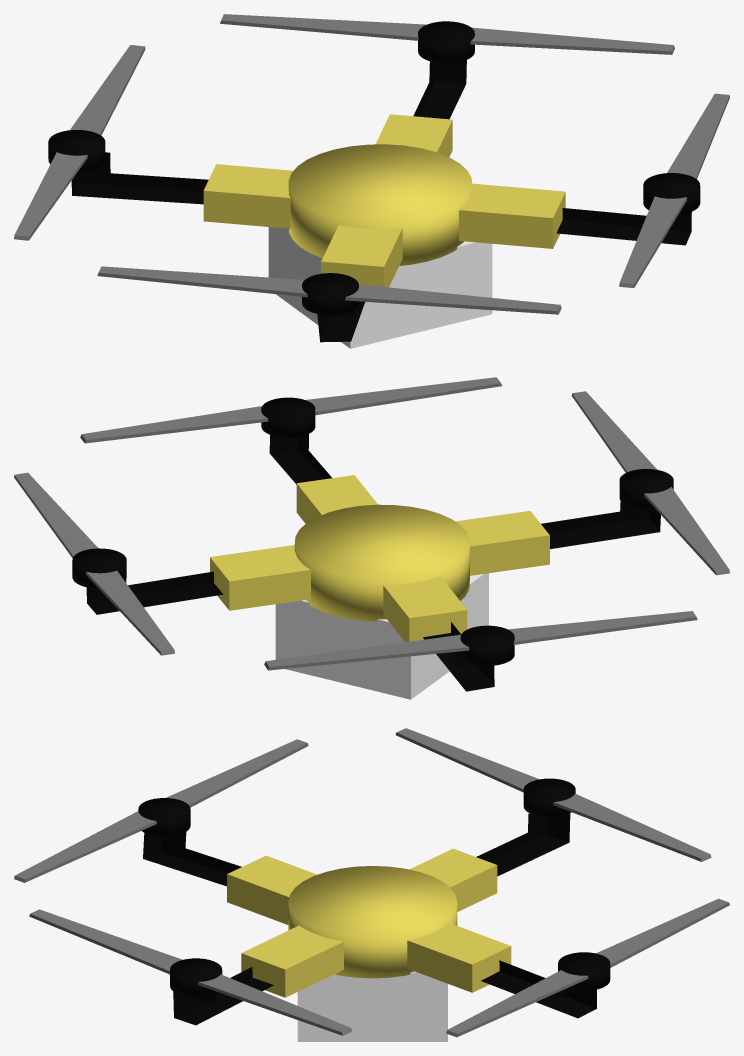
File: prot.glb
3 views of the same model, one above another, from view 1: azimuth 30°, elevation 25°; view 2: azimuth 150°, elevation 25°; view 3: azimuth 270°, elevation 25° (orthographic). The views are drawn at different scales.
Visible parts, largest first — view 1: doron hontai7, doron hontai2, doron hontai3, doron hontai5, doron hontai6, doron hontai9, doron puropera8, doron puropera7, doron hontai, doron puropera4, doron puropera3, doron puropera1 (+10 smaller); view 2: doron hontai7, doron hontai2, doron hontai4, doron hontai6, doron hontai5, doron hontai10, doron puropera6, doron hontai8, doron puropera1, doron puropera2, doron puropera5, doron hontai3 (+10 smaller); view 3: doron hontai7, doron hontai2, doron hontai3, doron hontai4, doron hontai6, doron hontai5, doron hontai9, doron hontai10, doron puropera6, doron puropera8, doron puropera1, doron hontai8 (+10 smaller).
Boxes of the visible parts, x1=… form: doron hontai7: x1=288, y1=144, x2=472, y2=265; doron hontai2: x1=268, y1=227, x2=492, y2=348; doron hontai3: x1=459, y1=183, x2=565, y2=248; doron hontai5: x1=203, y1=164, x2=293, y2=228; doron hontai6: x1=321, y1=225, x2=402, y2=287; doron hontai9: x1=71, y1=152, x2=208, y2=204; doron puropera8: x1=345, y1=284, x2=561, y2=314; doron puropera7: x1=97, y1=266, x2=307, y2=297; doron hontai: x1=556, y1=208, x2=691, y2=245; doron puropera4: x1=470, y1=27, x2=674, y2=54; doron puropera3: x1=220, y1=14, x2=426, y2=40; doron puropera1: x1=619, y1=196, x2=686, y2=287; doron hontai7: x1=294, y1=504, x2=469, y2=621; doron hontai2: x1=275, y1=573, x2=488, y2=699; doron hontai4: x1=210, y1=545, x2=310, y2=610; doron hontai6: x1=455, y1=511, x2=549, y2=575; doron hontai5: x1=383, y1=576, x2=467, y2=642; doron hontai10: x1=541, y1=501, x2=660, y2=548; doron puropera6: x1=264, y1=634, x2=469, y2=670; doron hontai8: x1=86, y1=571, x2=223, y2=614; doron puropera1: x1=305, y1=377, x2=501, y2=415; doron puropera2: x1=80, y1=406, x2=268, y2=443; doron puropera5: x1=508, y1=611, x2=697, y2=644; doron hontai3: x1=296, y1=475, x2=377, y2=523; doron hontai7: x1=288, y1=866, x2=457, y2=978; doron hontai2: x1=297, y1=971, x2=447, y2=1041; doron hontai3: x1=241, y1=925, x2=343, y2=997; doron hontai4: x1=407, y1=923, x2=511, y2=992; doron hontai6: x1=227, y1=855, x2=317, y2=924; doron hontai5: x1=409, y1=848, x2=497, y2=911; doron hontai9: x1=476, y1=813, x2=570, y2=876; doron hontai10: x1=143, y1=832, x2=241, y2=886; doron puropera6: x1=553, y1=793, x2=711, y2=861; doron puropera8: x1=14, y1=811, x2=156, y2=882; doron puropera1: x1=29, y1=909, x2=182, y2=974; doron hontai8: x1=481, y1=960, x2=596, y2=1018.
Bounding box in the file's own units: 7.16 × 1.39 × 7.03.
